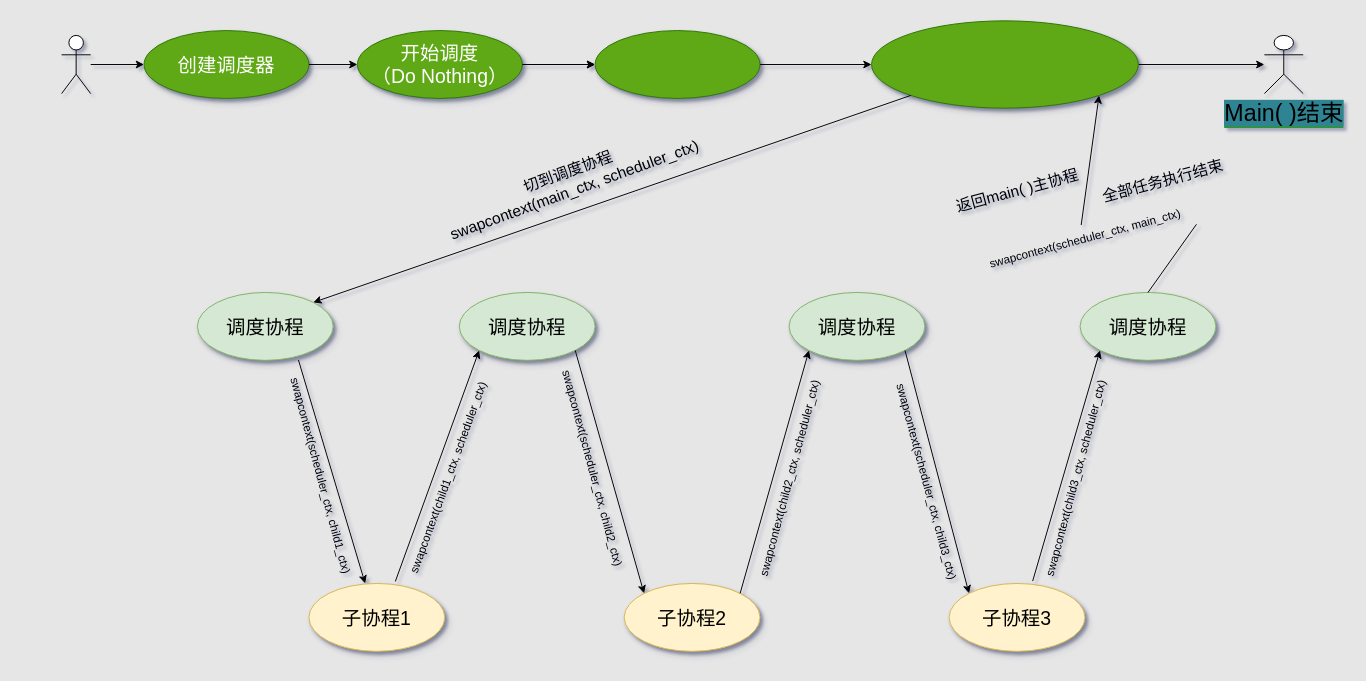
The diagram is 1366 pixels wide and 681 high, and some of its shapes have lost their labels. Here are the shapes that lost their labels. From the top down, the centre of each, then its label:
the point at 76,64: Main( )开始
the point at 678,65: 添加调度任务
the point at 1005,65: 停止调度 （等待调度线程退出）
